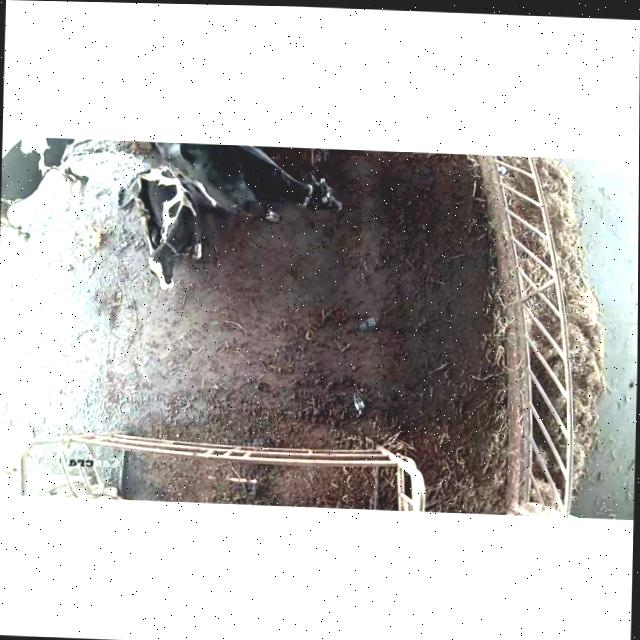stand: (137, 139, 347, 219), (0, 135, 114, 245)
